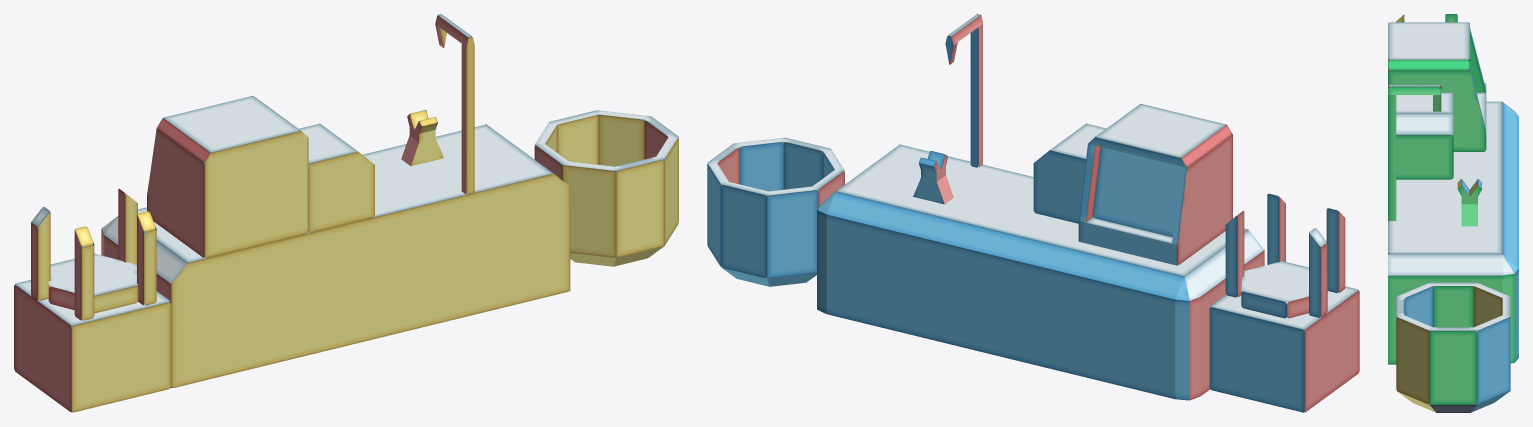
Rendered from charging_station.obj.
3 views of the same model, side by side, from view 1: azimuth 30°, elevation 25°; view 2: azimuth 150°, elevation 25°; view 3: azimuth 270°, elevation 25° (orthographic). The views are drawn at different scales.
Visible parts, largest first — view 1: console_base, monitor, basket, base, holder, pc, slot, arrow, cuboid; view 2: console_base, monitor, basket, base, holder, pc, slot, arrow, cuboid; view 3: console_base, basket, monitor, pc, arrow, cuboid, holder.
Part boxes in pixels (box(x1,y1,x2,y2)): console_base: box(101, 124, 570, 387); monitor: box(147, 96, 308, 258); basket: box(534, 110, 678, 266); base: box(14, 280, 171, 412); holder: box(31, 189, 156, 320); pc: box(299, 123, 374, 232); slot: box(48, 253, 138, 313); arrow: box(435, 14, 474, 194); cuboid: box(401, 110, 443, 166); console_base: box(817, 144, 1264, 400); monitor: box(1078, 104, 1232, 265); basket: box(707, 137, 844, 286); base: box(1209, 286, 1359, 412); holder: box(1225, 193, 1345, 317); pc: box(1033, 123, 1106, 223); slot: box(1241, 261, 1327, 318); arrow: box(945, 14, 982, 167); cuboid: box(913, 151, 953, 204); console_base: box(1388, 101, 1518, 364); basket: box(1396, 282, 1510, 412); monitor: box(1388, 22, 1486, 151); pc: box(1396, 92, 1453, 179); arrow: box(1388, 85, 1441, 220); cuboid: box(1457, 179, 1481, 226); holder: box(1395, 14, 1457, 22).
Bounding box in the file's own units: 4.75 × 2 × 1.
1 material, 1 textured.
